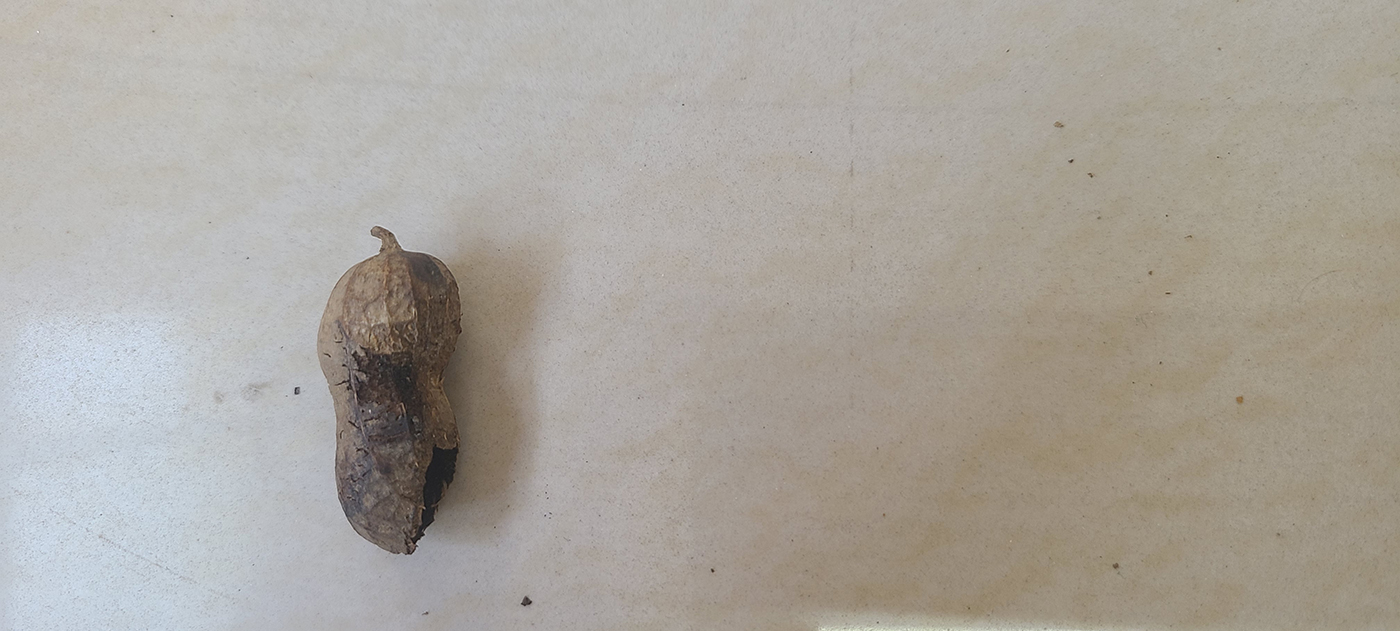l: (316, 253, 469, 557)
